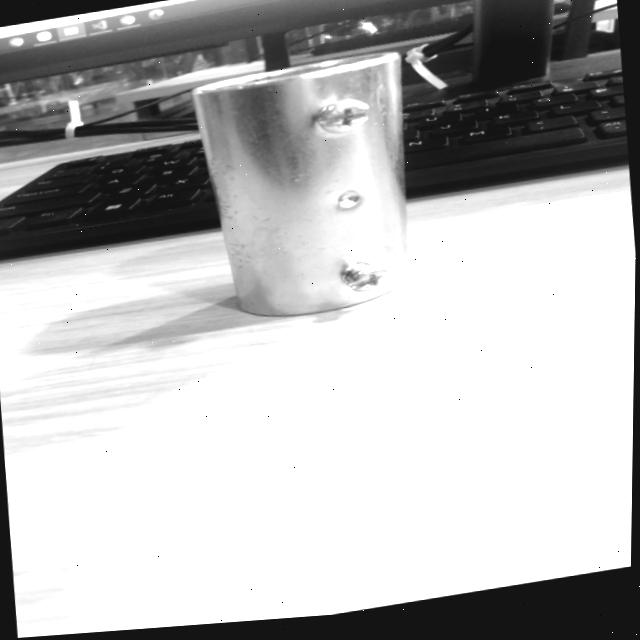Co_Lon: (190, 50, 437, 326)
